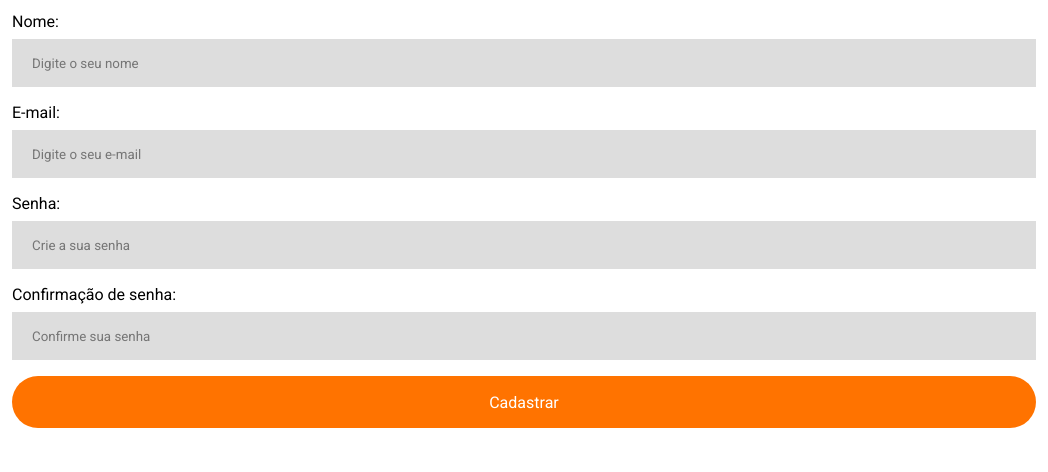
Test: <RegisterForm /> › should show error when a field is empty
expect the field with placeholder "Digite o seu nome" is shown: met, box [12, 39, 1036, 87]
expect the password field with placeholder "Crie a sua senha" is shown: met, box [12, 221, 1036, 269]
Type "josedasilva@email.com" into the field with placeholder "Digite o seu e-mail" at [524, 154], box [12, 130, 1036, 178]
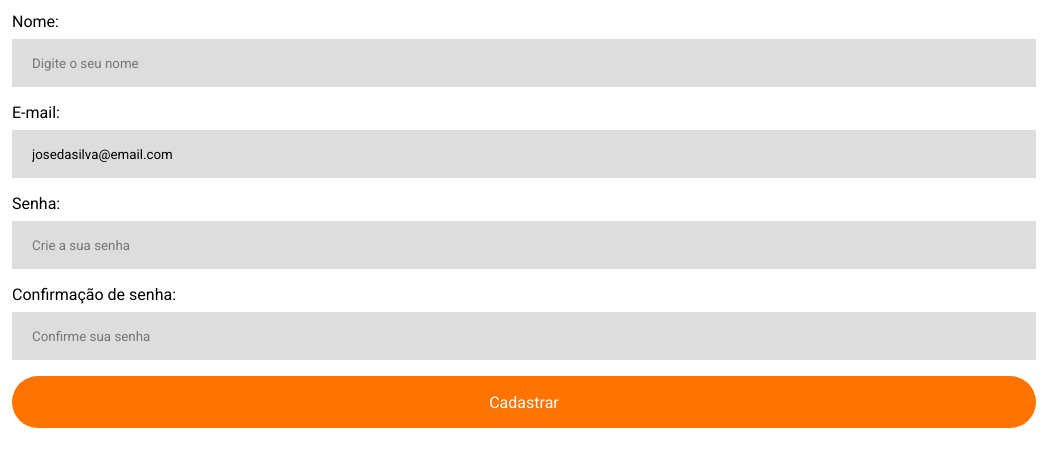
Type "@12Patinhos" into the password field with placeholder "Crie a sua senha" at [524, 245], box [12, 221, 1036, 269]
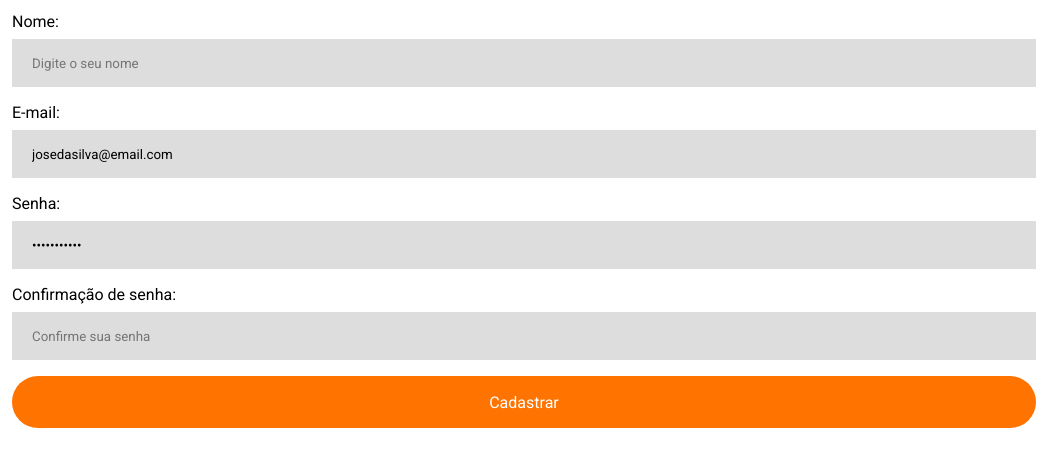
Type "@12Patinhos" into the password field with placeholder "Confirme sua senha" at [524, 336], box [12, 312, 1036, 360]
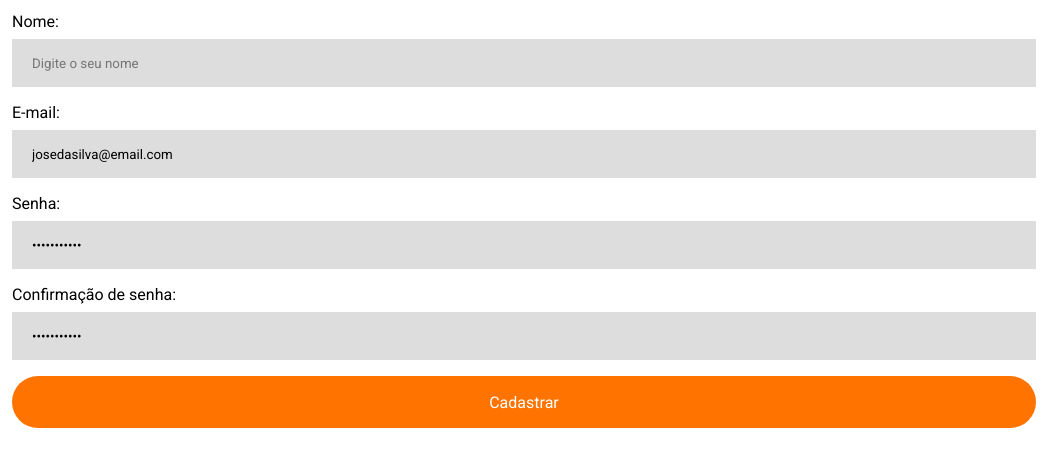
Submit the form from the button "Cadastrar", box [12, 376, 1036, 428]
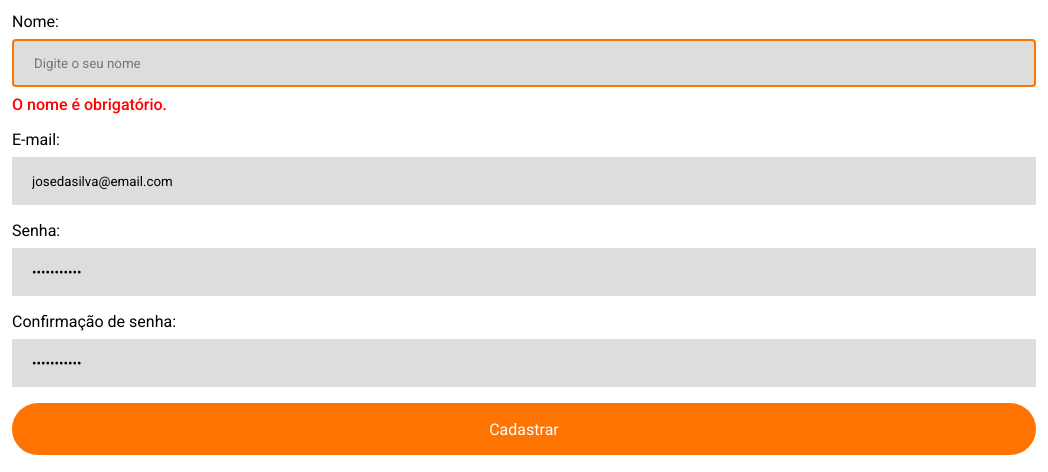
expect the text "O nome é obrigatório." is shown: met, box [12, 95, 167, 114]
